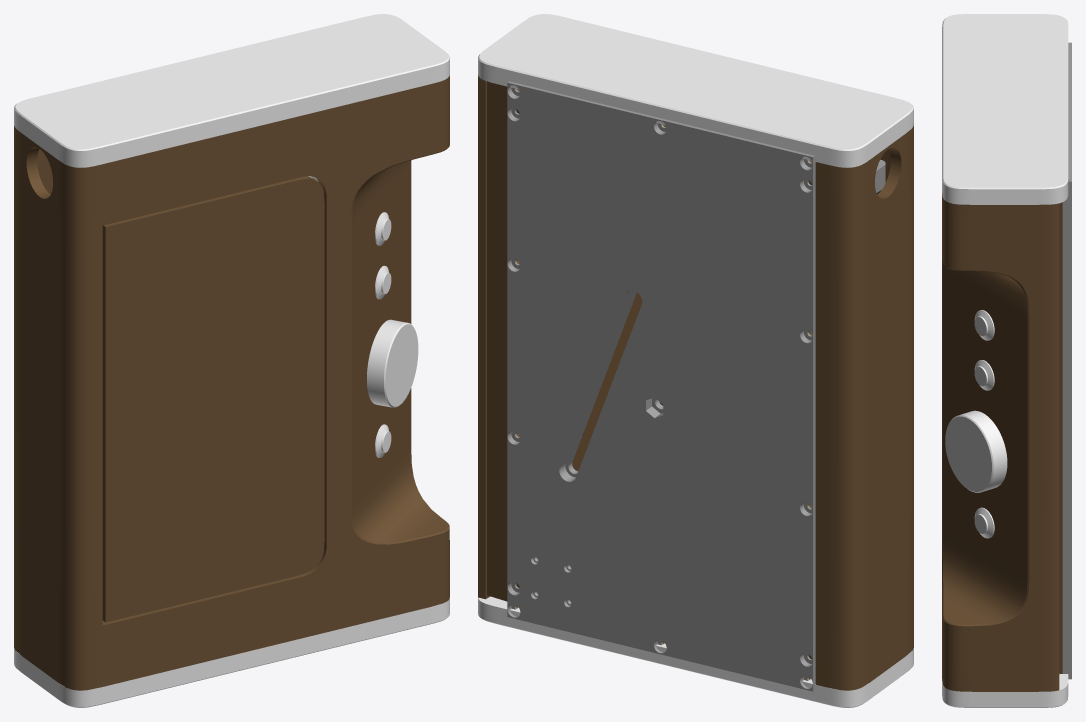
File: Tome V3 v1.fbx
3 renders of one model, left to right at view 1: azimuth 30°, elevation 25°; view 2: azimuth 150°, elevation 25°; view 3: azimuth 270°, elevation 25°, orthographic. The views are drawn at different scales.
Parts seen in each view (by area): view 1: Main Body, Above Lid, Cap Right, Cap Left, Dial; view 2: Access Panel, Main Body, Cap Right, Cap Left; view 3: Main Body, Cap Right, Access Panel, Dial, Cap Left, Button 1, Button 2, Button 3.
Boxes of the visible parts, box(x1,y1,x2,y2) form: Main Body: box(14, 75, 449, 690); Above Lid: box(102, 176, 324, 622); Cap Right: box(14, 14, 449, 167); Cap Left: box(14, 598, 449, 707); Dial: box(367, 319, 418, 407); Access Panel: box(507, 81, 885, 691); Main Body: box(478, 75, 913, 690); Cap Right: box(478, 14, 913, 167); Cap Left: box(478, 596, 913, 707); Main Body: box(942, 193, 1062, 691); Cap Right: box(942, 14, 1068, 204); Access Panel: box(1062, 42, 1071, 679); Dial: box(945, 410, 1007, 492); Cap Left: box(942, 674, 1068, 707); Button 1: box(974, 507, 994, 538); Button 2: box(974, 360, 994, 390); Button 3: box(974, 310, 994, 340).
Bounding box in the file's own units: 180 × 250 × 56.5.
